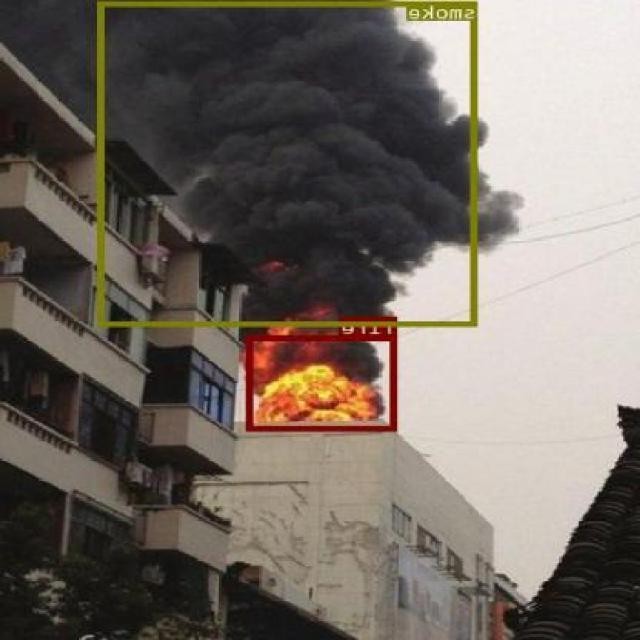Fire: (247, 334, 398, 429)
Smoke: (100, 1, 478, 326)
